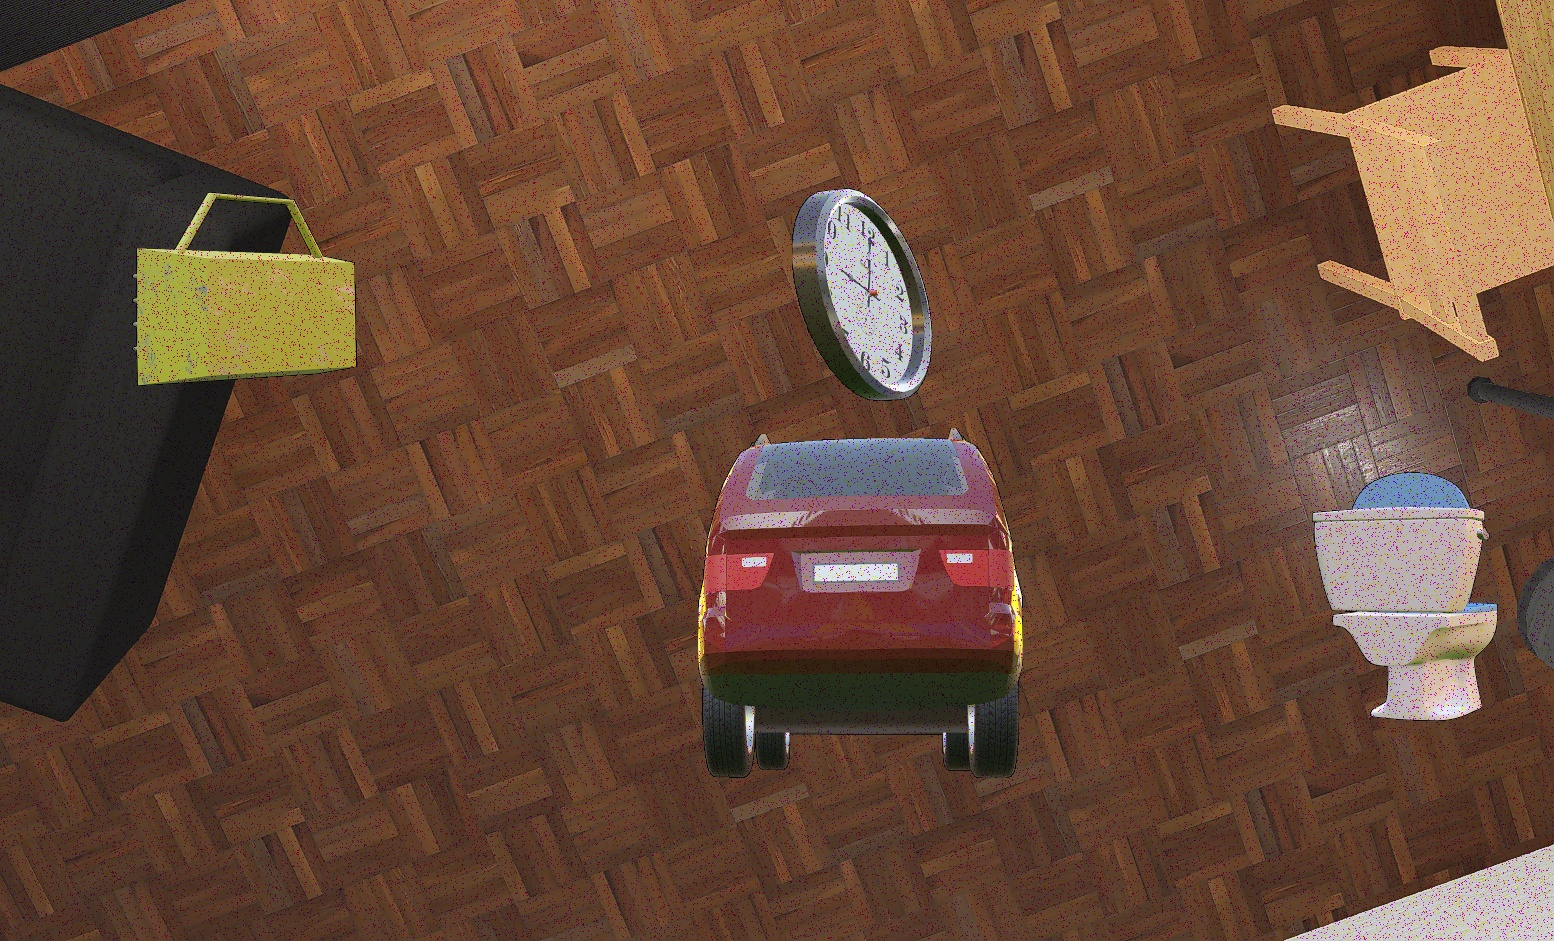coche: (697, 427, 1025, 779)
lampara: (132, 192, 357, 386)
reloj: (791, 188, 934, 401)
retrete: (1312, 472, 1499, 721)
